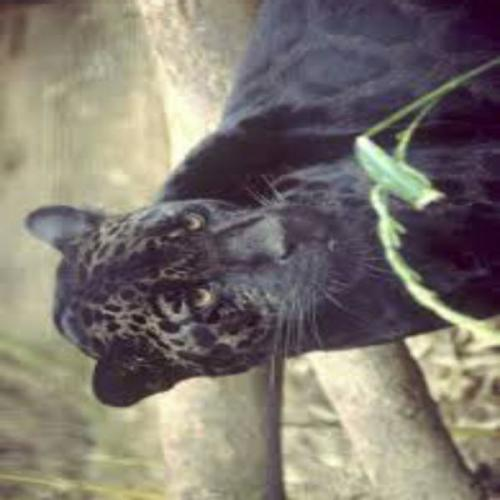panther-endangered: (53, 0, 500, 364)
